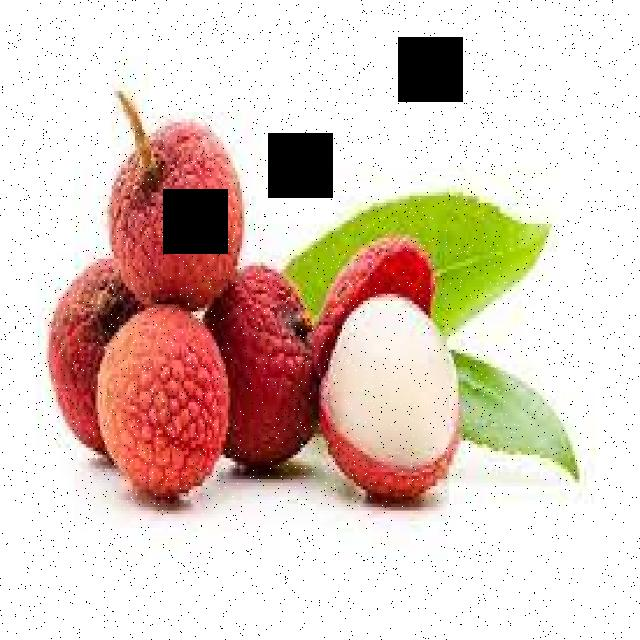lychee: (90, 127, 460, 499)
